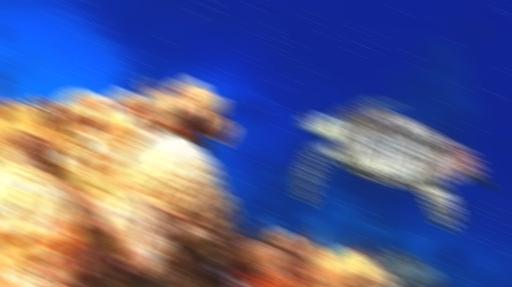Fish: (295, 98, 493, 230)
